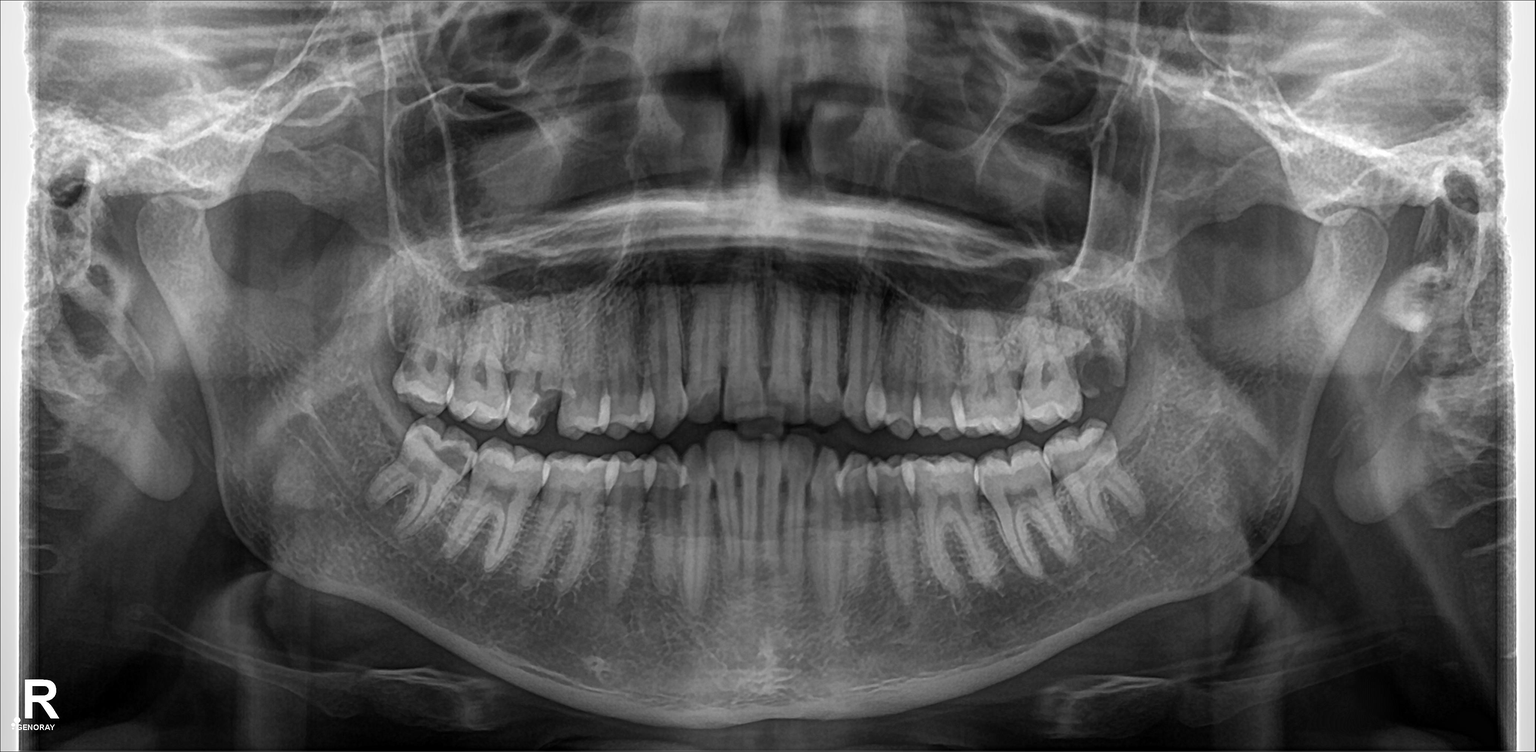Dental Caries: (1080, 357, 1122, 398), (529, 389, 562, 426), (445, 443, 471, 475)
Impacted Third Molar: (385, 426, 478, 541)
Retained Root: (1073, 313, 1126, 407)
